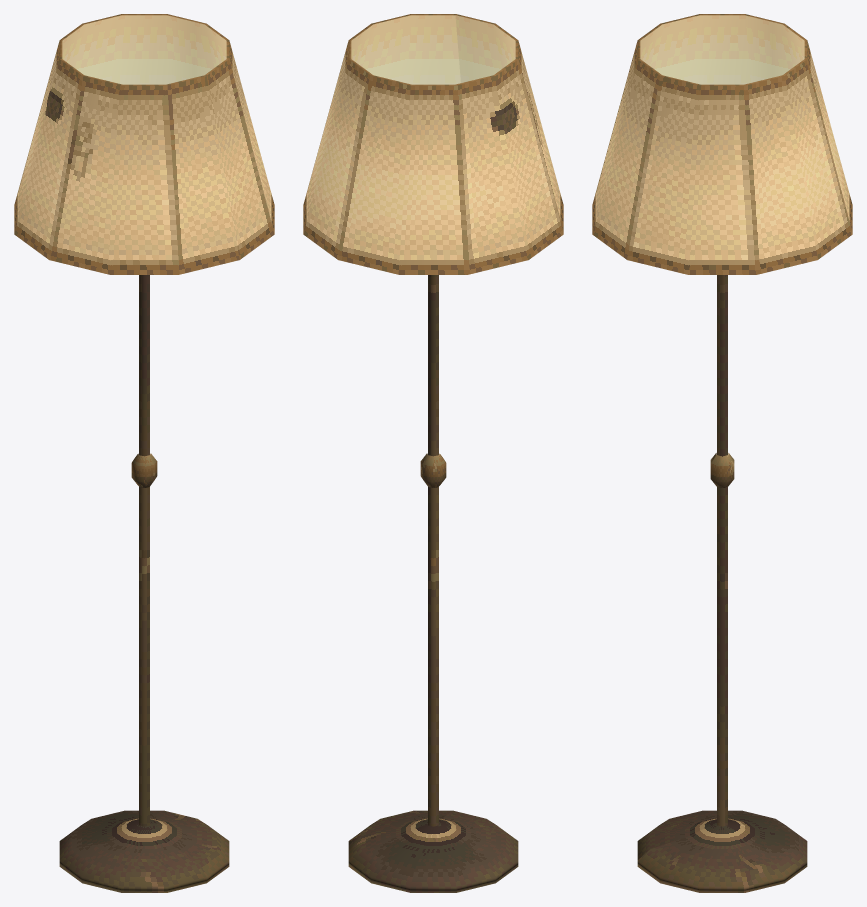
File: lamp_floor.glb
3 views of the same model, side by side, from view 1: azimuth 30°, elevation 25°; view 2: azimuth 150°, elevation 25°; view 3: azimuth 270°, elevation 25° (orthographic).
Parts seen in each view (by area): view 1: lamp_floor; view 2: lamp_floor; view 3: lamp_floor.
Boxes of the visible parts, left/top/right/bottom form: lamp_floor: left=14, top=14, right=274, bottom=892; lamp_floor: left=303, top=14, right=563, bottom=892; lamp_floor: left=592, top=14, right=852, bottom=892.
Bounding box in the file's own units: 0.4443 × 1.52 × 0.4443.
Materials: 2 (2 with a texture image).
